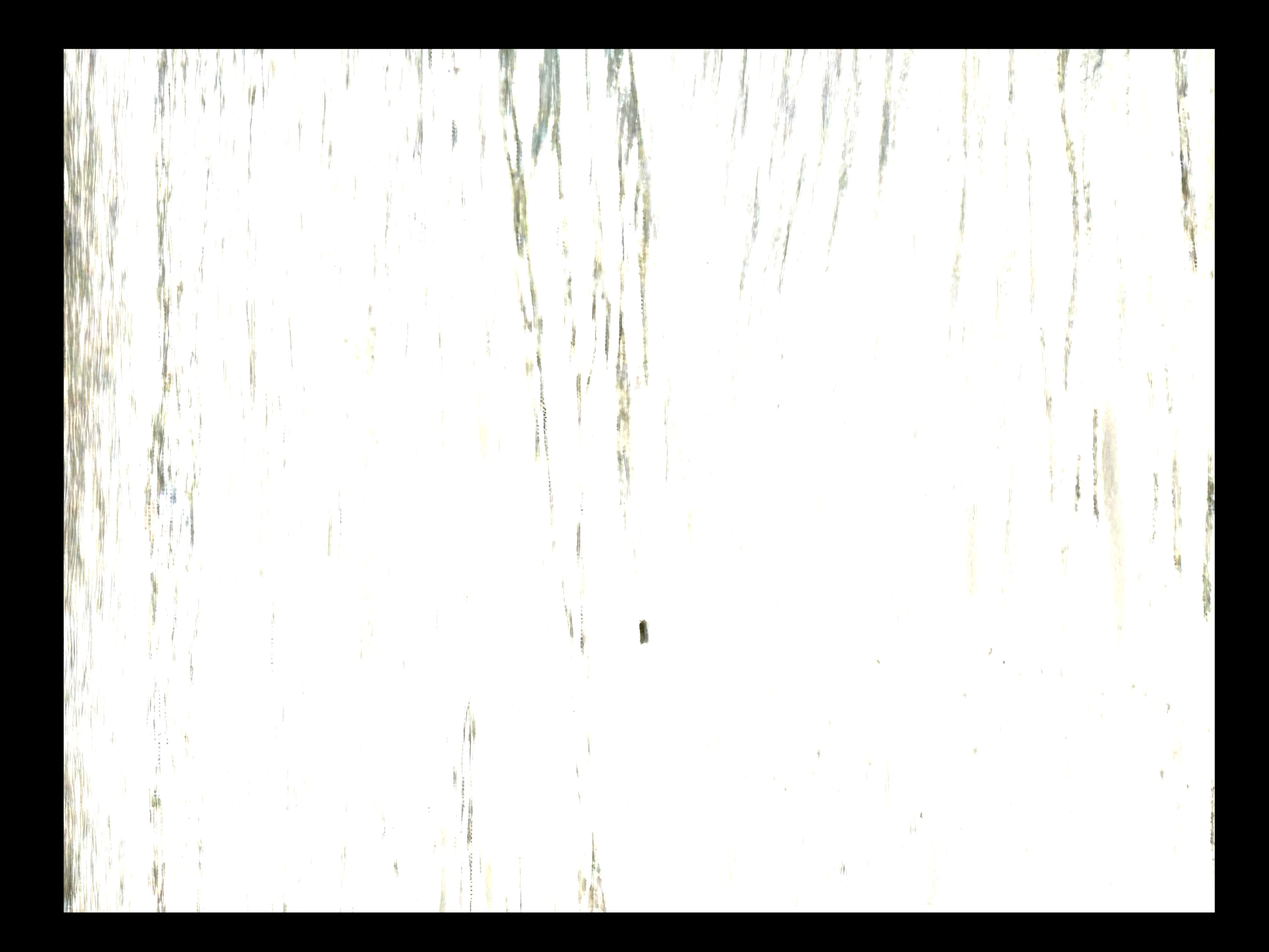Plastic wastes: (590, 349, 606, 420), (655, 602, 674, 636)
